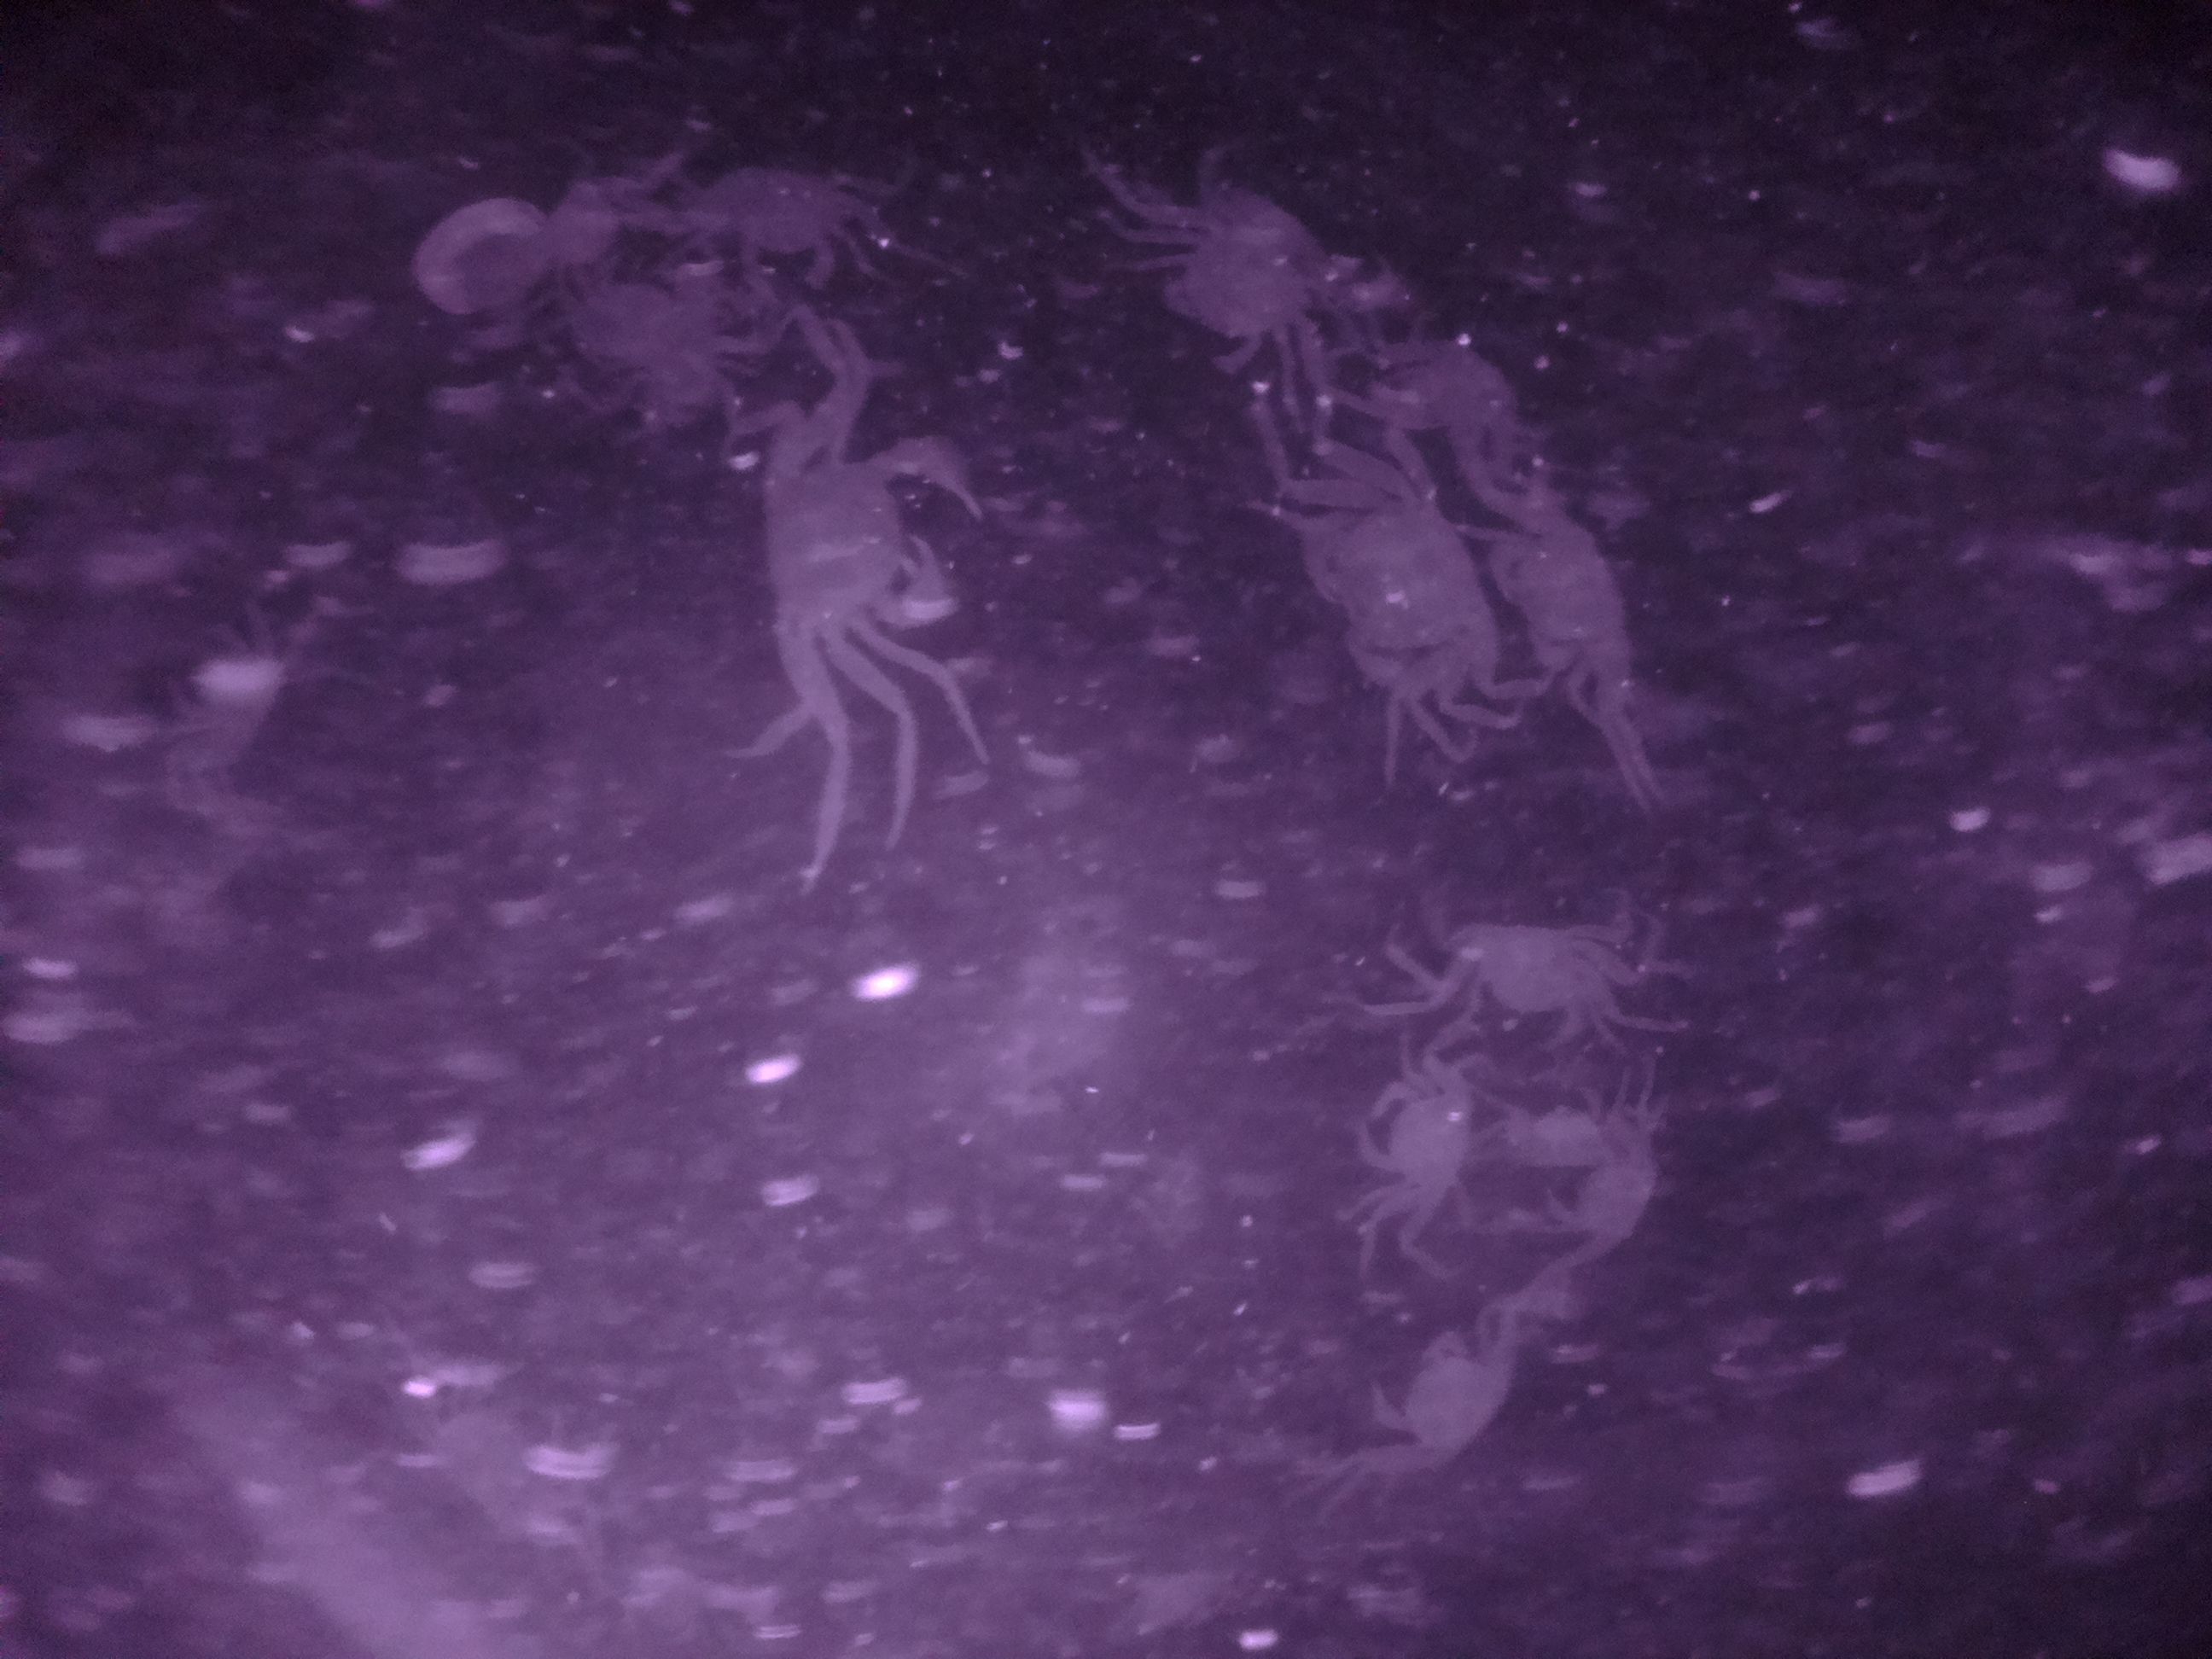Crab: (735, 416, 984, 721), (1285, 446, 1514, 720), (1414, 885, 1651, 1051), (1120, 195, 1341, 371), (1360, 1310, 1522, 1485), (1334, 1044, 1491, 1215), (1534, 1110, 1655, 1283)
